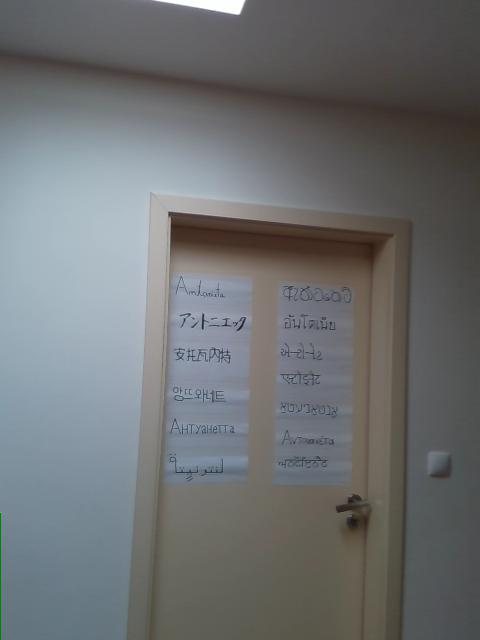door: (153, 221, 376, 639)
